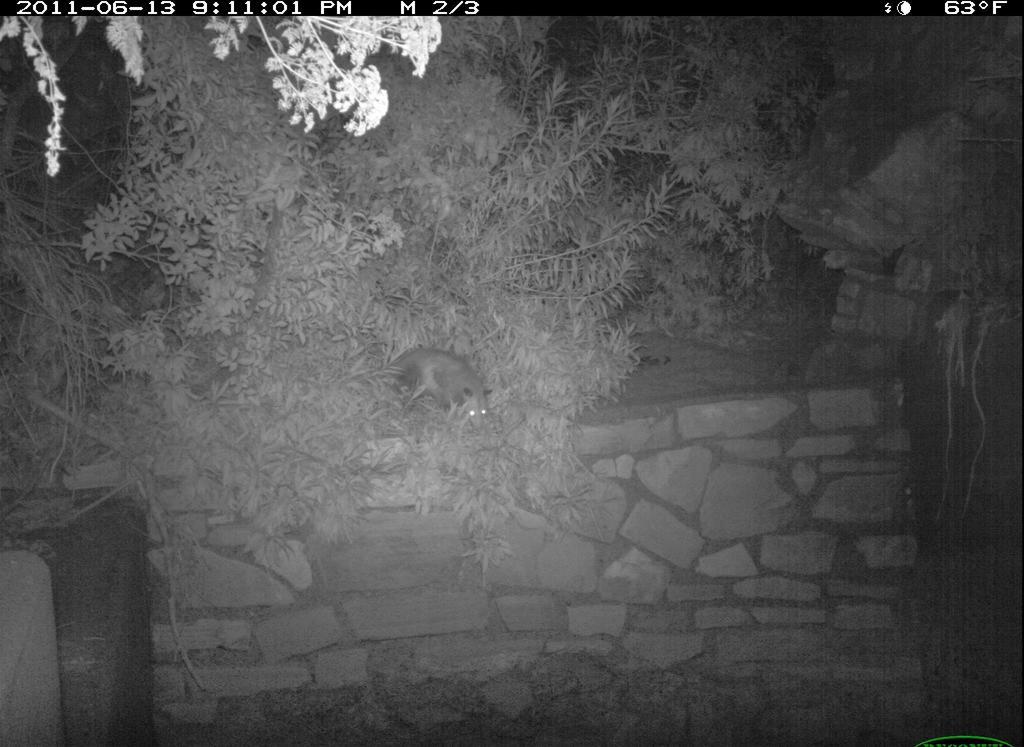opossum: (360, 337, 497, 447)
